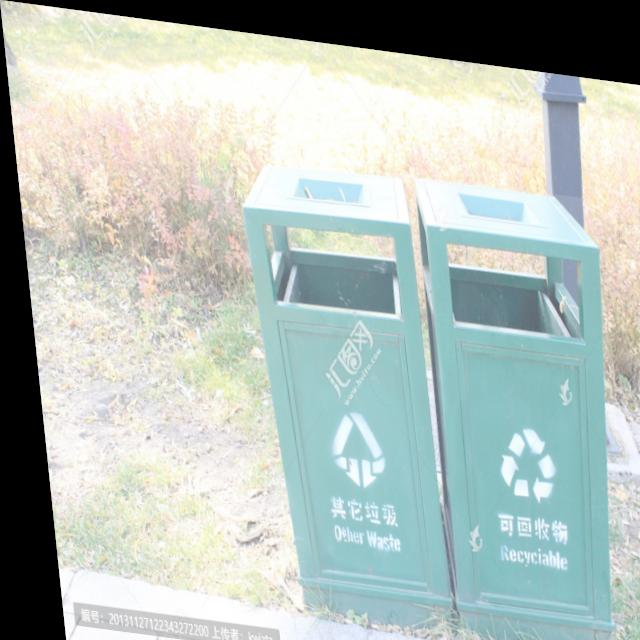garbage_bin: (233, 146, 629, 640)
